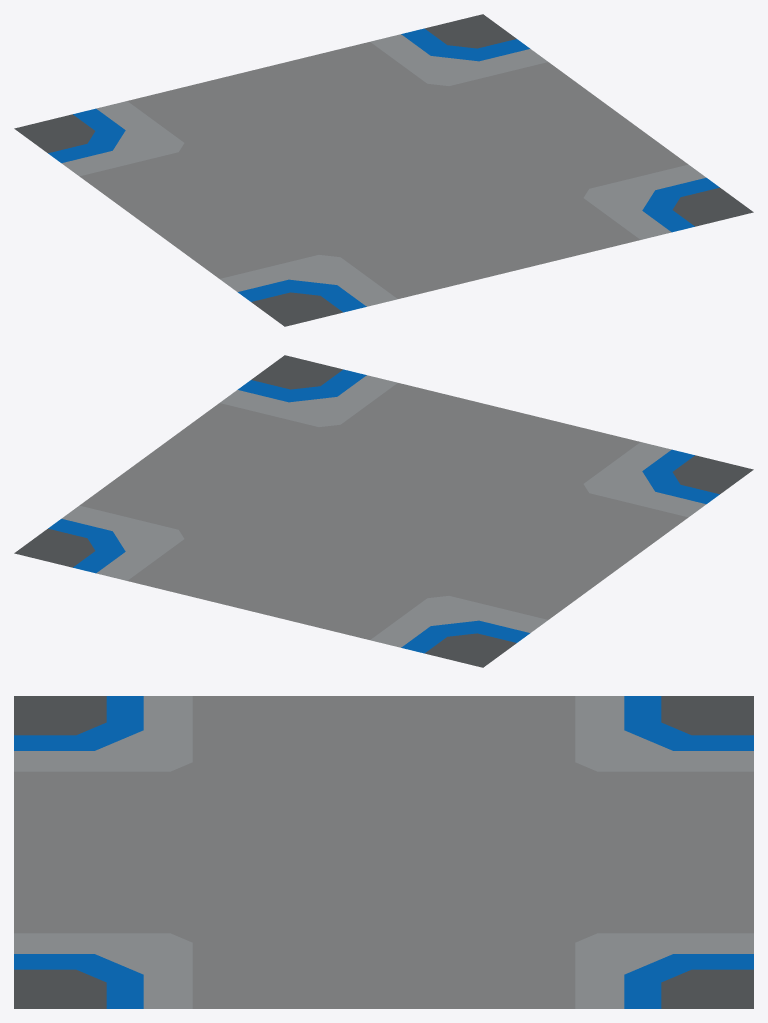
The model's file is Ceiling_type_B_055.fbx.
3 renders of one model, top to bottom at view 1: azimuth 30°, elevation 25°; view 2: azimuth 150°, elevation 25°; view 3: azimuth 270°, elevation 25°, orthographic. The views are drawn at different scales.
Visible parts, largest first — view 1: Ceiling_type_B_055; view 2: Ceiling_type_B_055; view 3: Ceiling_type_B_055.
Part boxes in pixels (<box>): Ceiling_type_B_055: <box>14,14,753,326</box>; Ceiling_type_B_055: <box>14,355,753,667</box>; Ceiling_type_B_055: <box>14,696,753,1008</box>.
Size of the model in its own units: 400 by 400 by 3.5.
